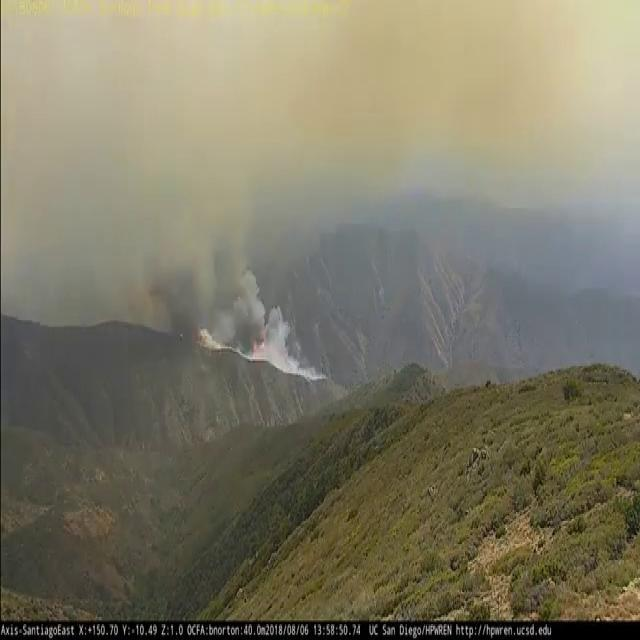Fire: (250, 338, 266, 358)
Smoke: (3, 20, 617, 388), (108, 218, 330, 380), (198, 268, 264, 350), (266, 304, 299, 372), (193, 324, 246, 356), (298, 353, 330, 382), (199, 322, 223, 354)
